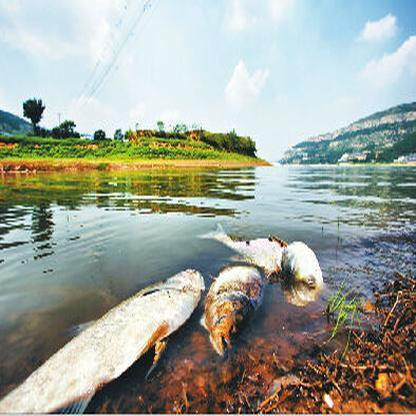deceased fish: (1, 263, 203, 416), (206, 222, 325, 287), (202, 252, 263, 356)
